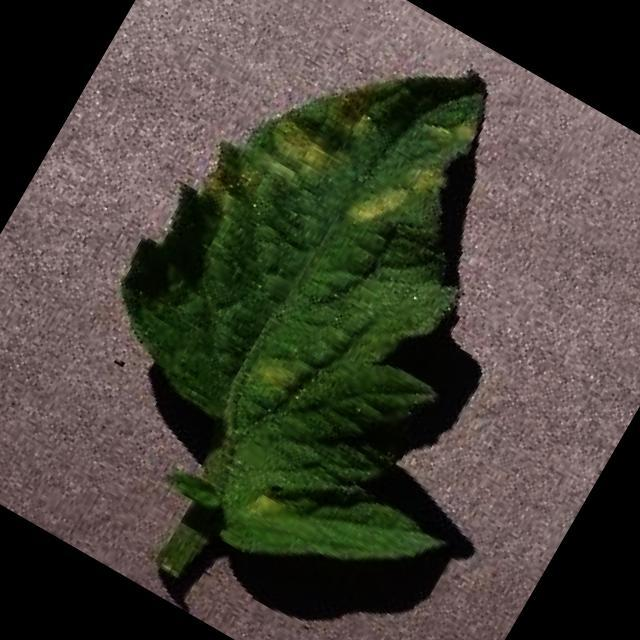Tomato mold leaf: (30, 0, 640, 640)
